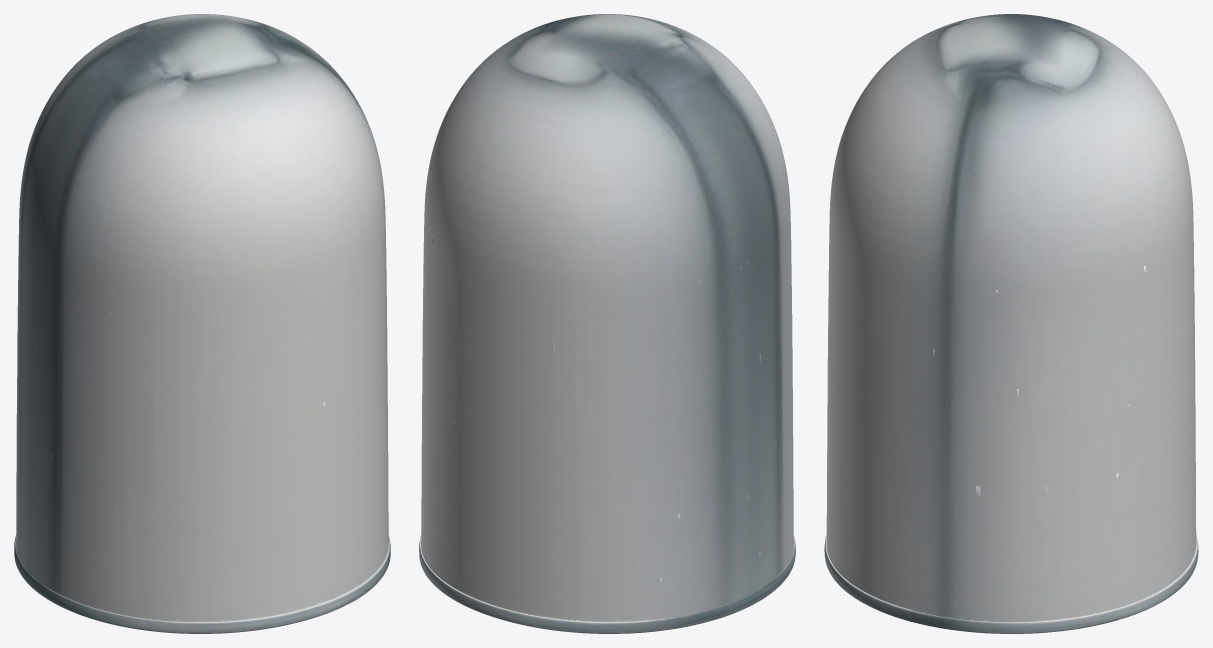
Rendered from glass_dome.glb.
3 renders of one model, left to right at view 1: azimuth 30°, elevation 25°; view 2: azimuth 150°, elevation 25°; view 3: azimuth 270°, elevation 25°, orthographic.
Parts seen in each view (by area): view 1: node_0; view 2: node_0; view 3: node_0.
Boxes of the visible parts, x1,y1,x2,y2 form: node_0: (14,14,390,633); node_0: (419,14,795,633); node_0: (824,14,1198,633).
Size of the model in its own units: 0.6574 by 1.01 by 0.6539.
Materials: 1 (1 with a texture image).
